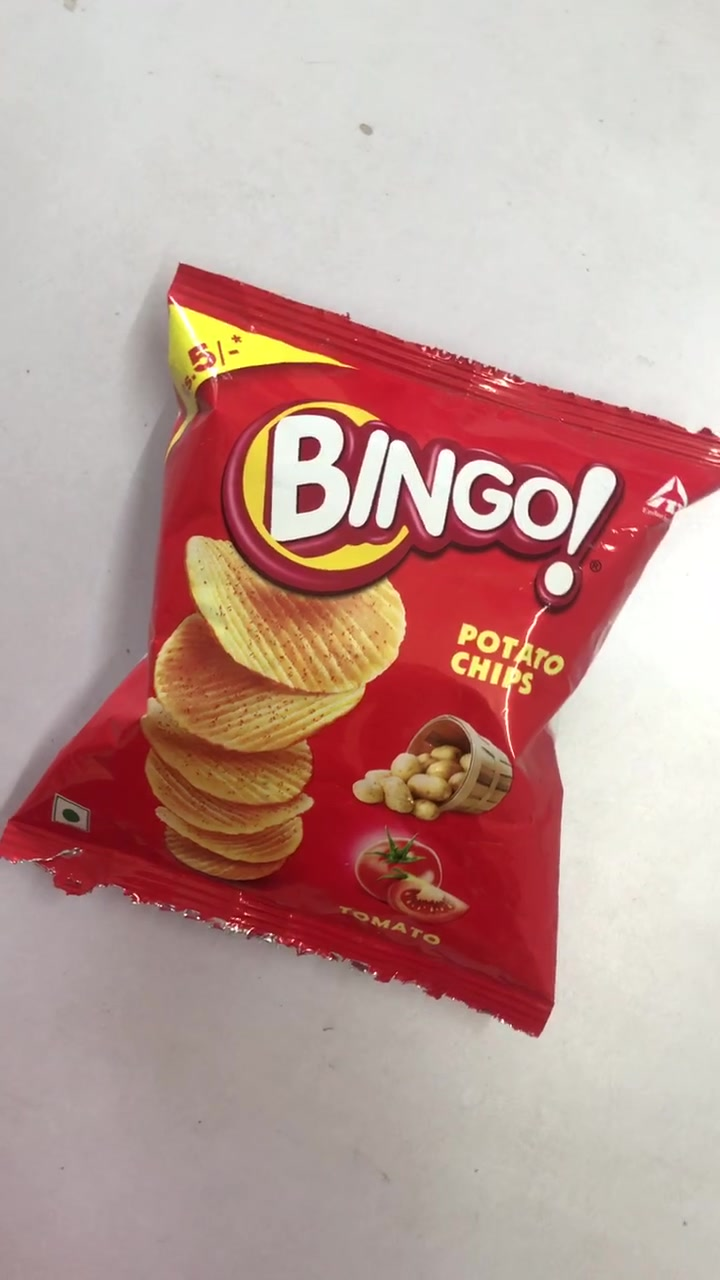Bingo: (6, 263, 720, 1027)
